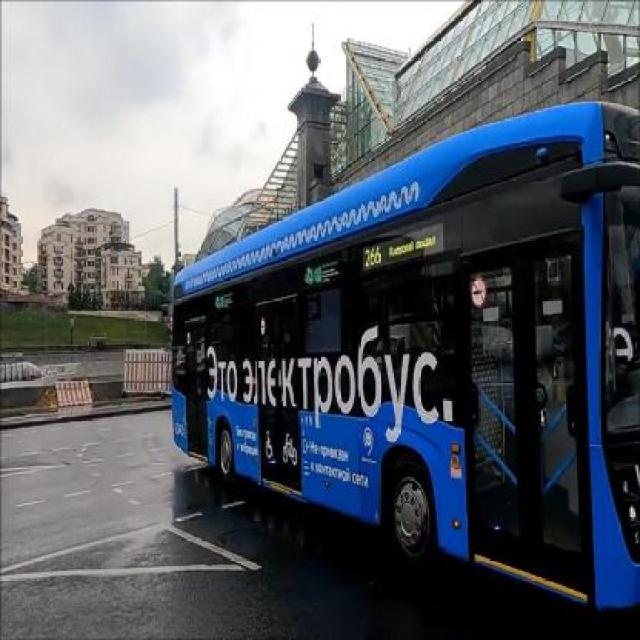Bus: (172, 101, 639, 599)
